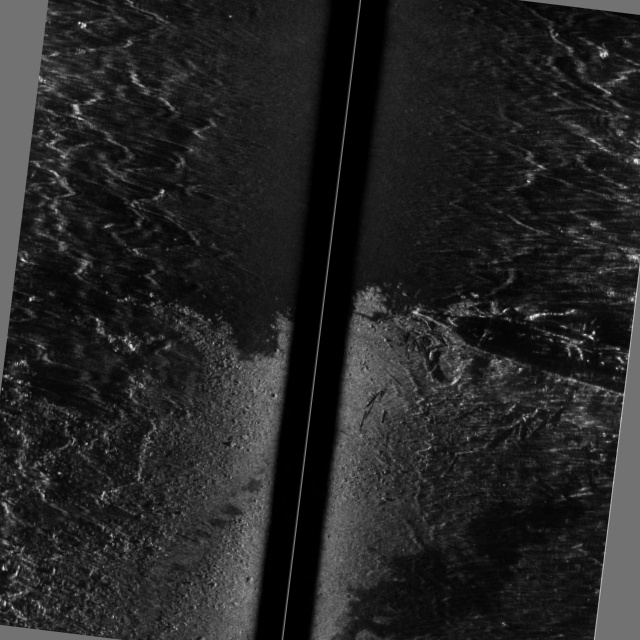Shipwreck: (339, 284, 633, 571)
